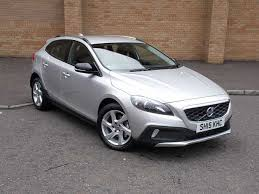car: (27, 34, 232, 152)
